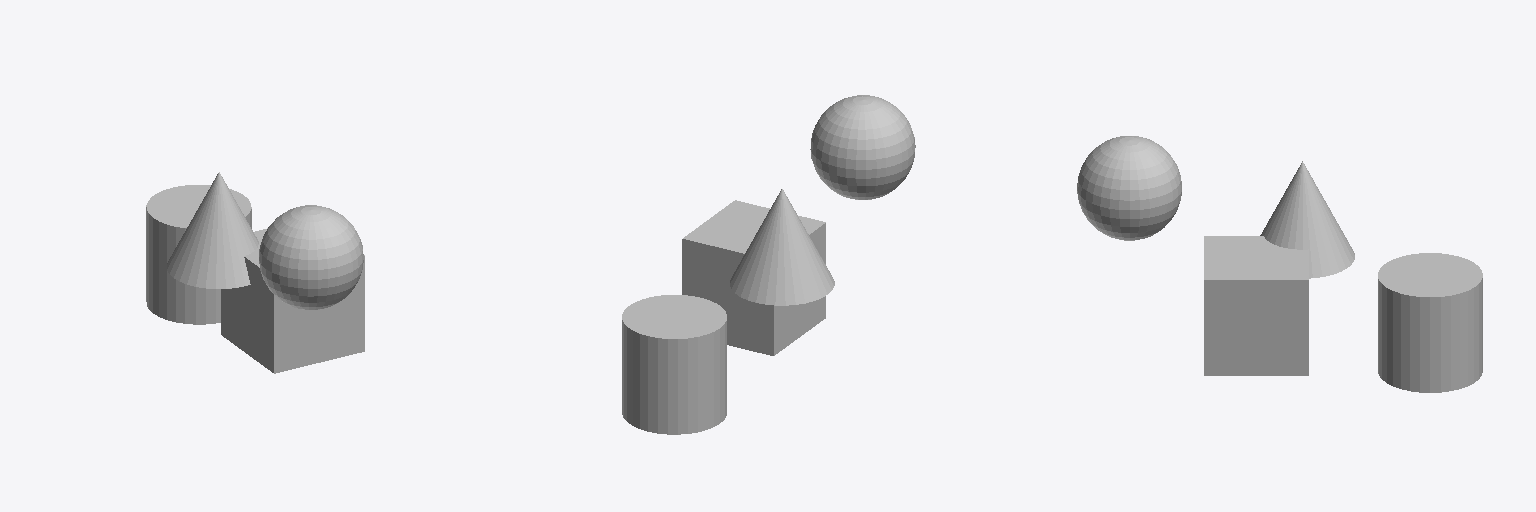
Rendered from tmo.obj.
The picture shows the model from 3 angles: view 1: azimuth 30°, elevation 25°; view 2: azimuth 150°, elevation 25°; view 3: azimuth 270°, elevation 25°; orthographic projection.
Parts seen in each view (by area): view 1: Cube, Sphere, Cylinder, Cone; view 2: Cylinder, Cube, Sphere, Cone; view 3: Cube, Cylinder, Sphere, Cone.
Boxes of the visible parts, x1=… form: Cube: x1=221, y1=228, x2=364, y2=373; Sphere: x1=259, y1=205, x2=363, y2=309; Cylinder: x1=146, y1=185, x2=251, y2=324; Cone: x1=167, y1=172, x2=258, y2=288; Cylinder: x1=622, y1=295, x2=726, y2=434; Cube: x1=682, y1=200, x2=825, y2=355; Sphere: x1=810, y1=95, x2=915, y2=199; Cone: x1=730, y1=189, x2=834, y2=305; Cube: x1=1204, y1=236, x2=1308, y2=375; Cylinder: x1=1378, y1=253, x2=1482, y2=392; Sphere: x1=1077, y1=136, x2=1181, y2=240; Cone: x1=1260, y1=161, x2=1354, y2=278.
Size of the model in its own units: 3.12 by 4.43 by 7.71.